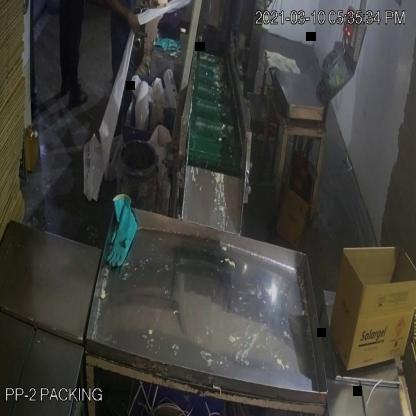no_glove: (98, 0, 146, 43)
